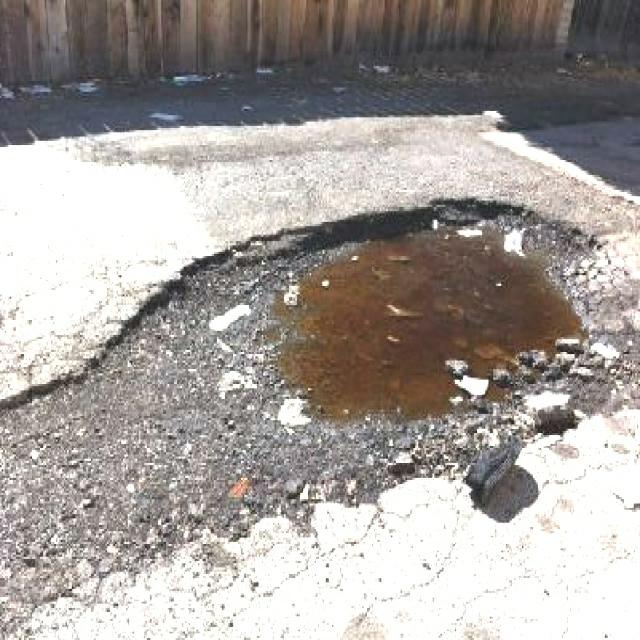Pothole: (78, 190, 618, 599)
